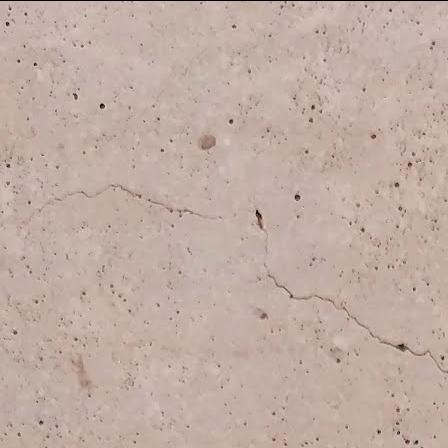crack: (226, 207, 448, 405), (25, 180, 238, 222)
